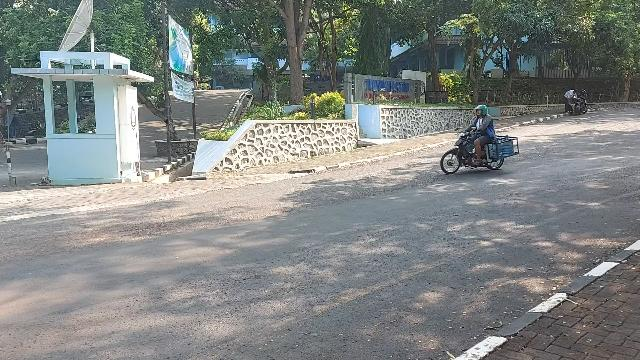helm: (476, 106, 489, 117)
motor: (442, 129, 505, 176)
